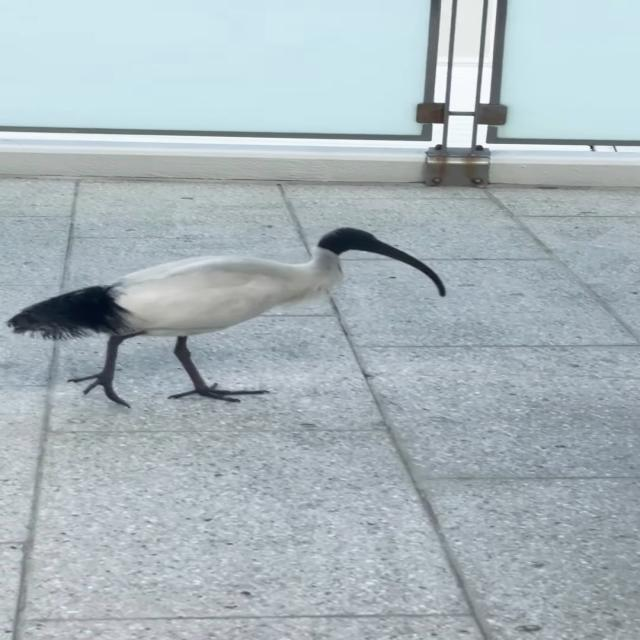Birds-Ibis: (1, 220, 454, 410)
